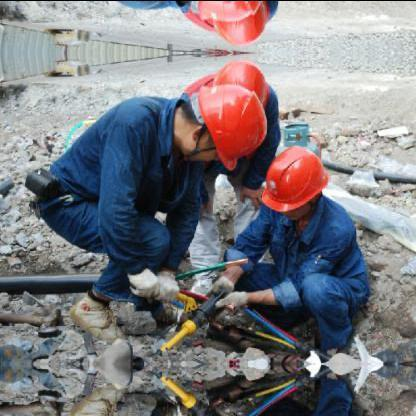Helmet: (184, 82, 274, 166), (260, 138, 332, 221), (203, 54, 271, 107), (202, 0, 272, 49), (183, 0, 275, 21)
